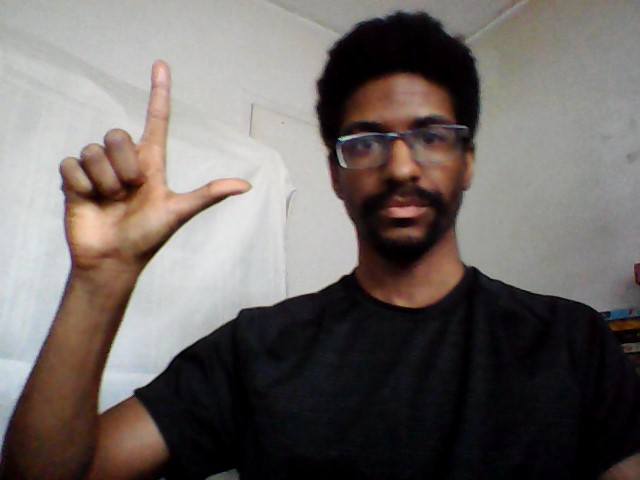l: (52, 55, 256, 268)
